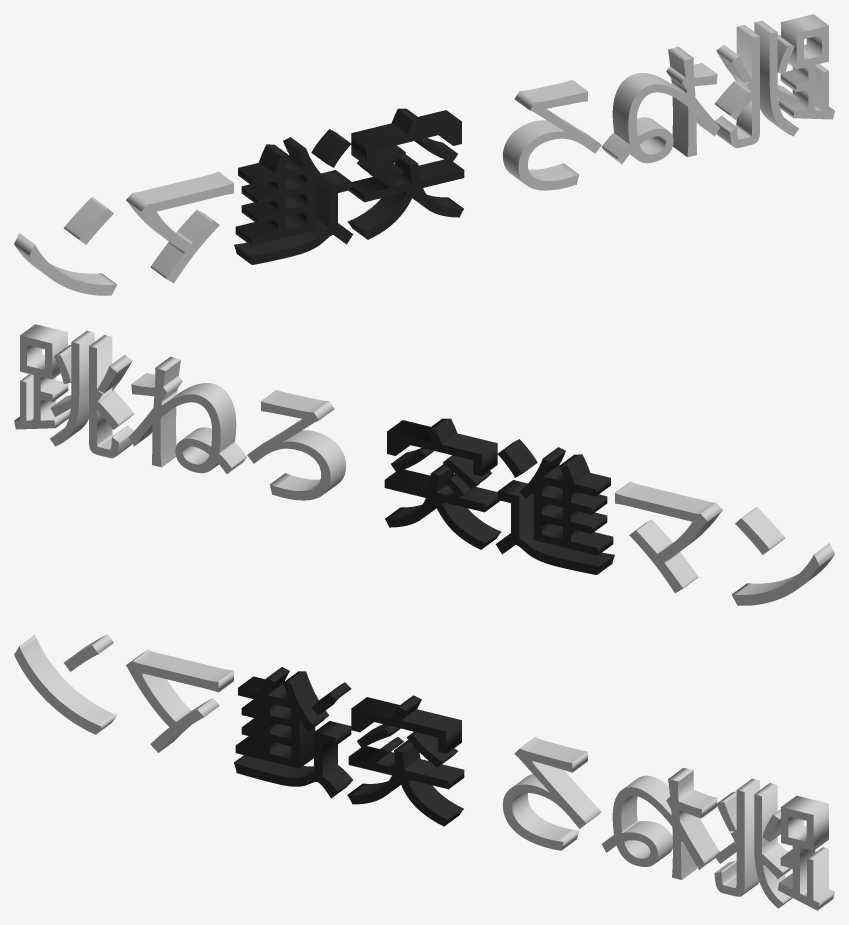
File: titleFont.obj
3 views of the same model, one above another, from view 1: azimuth 30°, elevation 25°; view 2: azimuth 150°, elevation 25°; view 3: azimuth 330°, elevation 25° (orthographic).
Visible parts, largest first — view 1: テキスト; view 2: テキスト; view 3: テキスト.
Boxes of the visible parts, x1,y1,x2,y2 form: テキスト: [14, 14, 834, 295]; テキスト: [14, 324, 834, 605]; テキスト: [14, 634, 834, 910].
Size of the model in its own units: 19.66 by 2.55 by 0.6583.
Materials: 1 (1 with a texture image).
